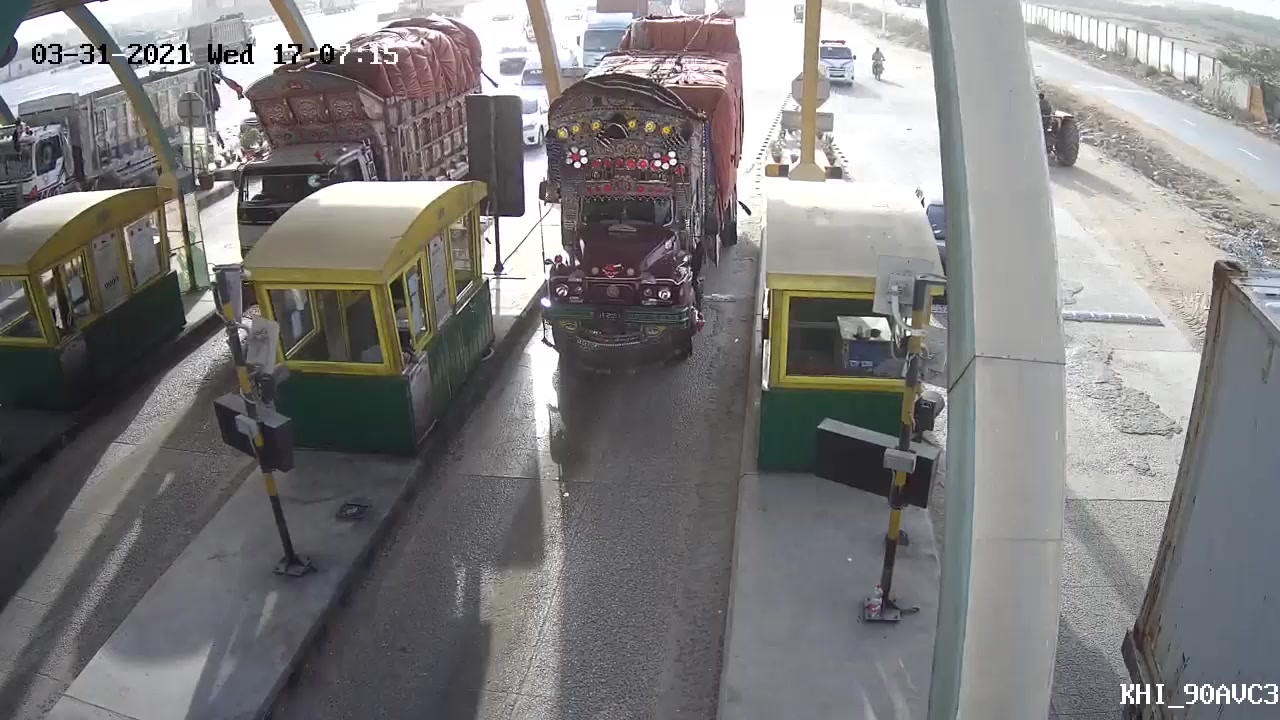F5: (509, 10, 749, 383)
